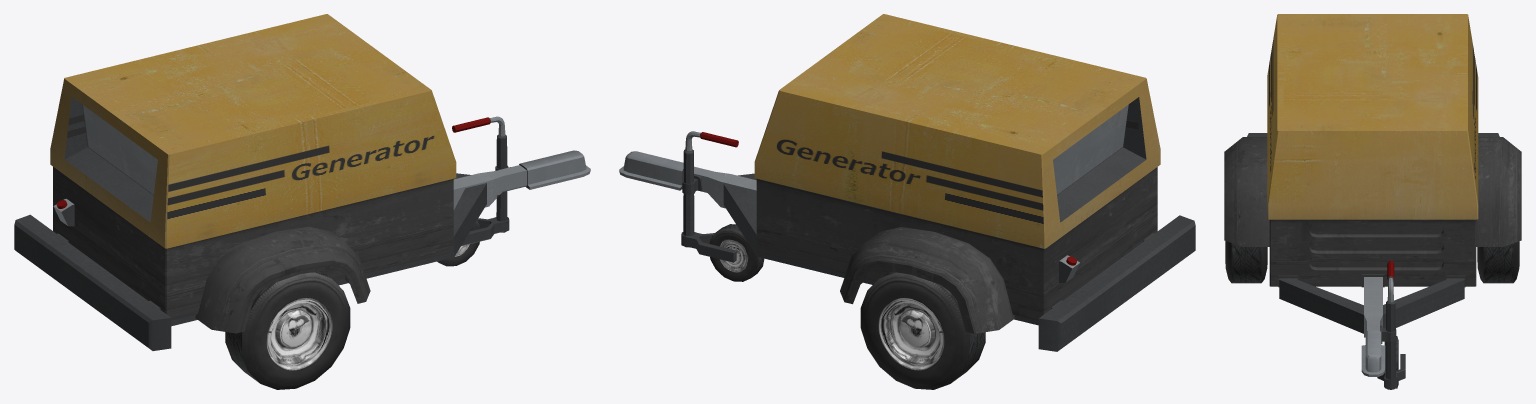
The model's file is GeneratorModel01.FBX.
3 views of the same model, side by side, from view 1: azimuth 30°, elevation 25°; view 2: azimuth 150°, elevation 25°; view 3: azimuth 270°, elevation 25° (orthographic). The views are drawn at different scales.
Parts seen in each view (by area): view 1: GeneratorModel01; view 2: GeneratorModel01; view 3: GeneratorModel01.
Part boxes in pixels (x1,y1,x2,y2): GeneratorModel01: (14,14,590,389); GeneratorModel01: (619,14,1195,389); GeneratorModel01: (1224,14,1521,389).
Size of the model in its own units: 4.83 by 2.19 by 2.7.
